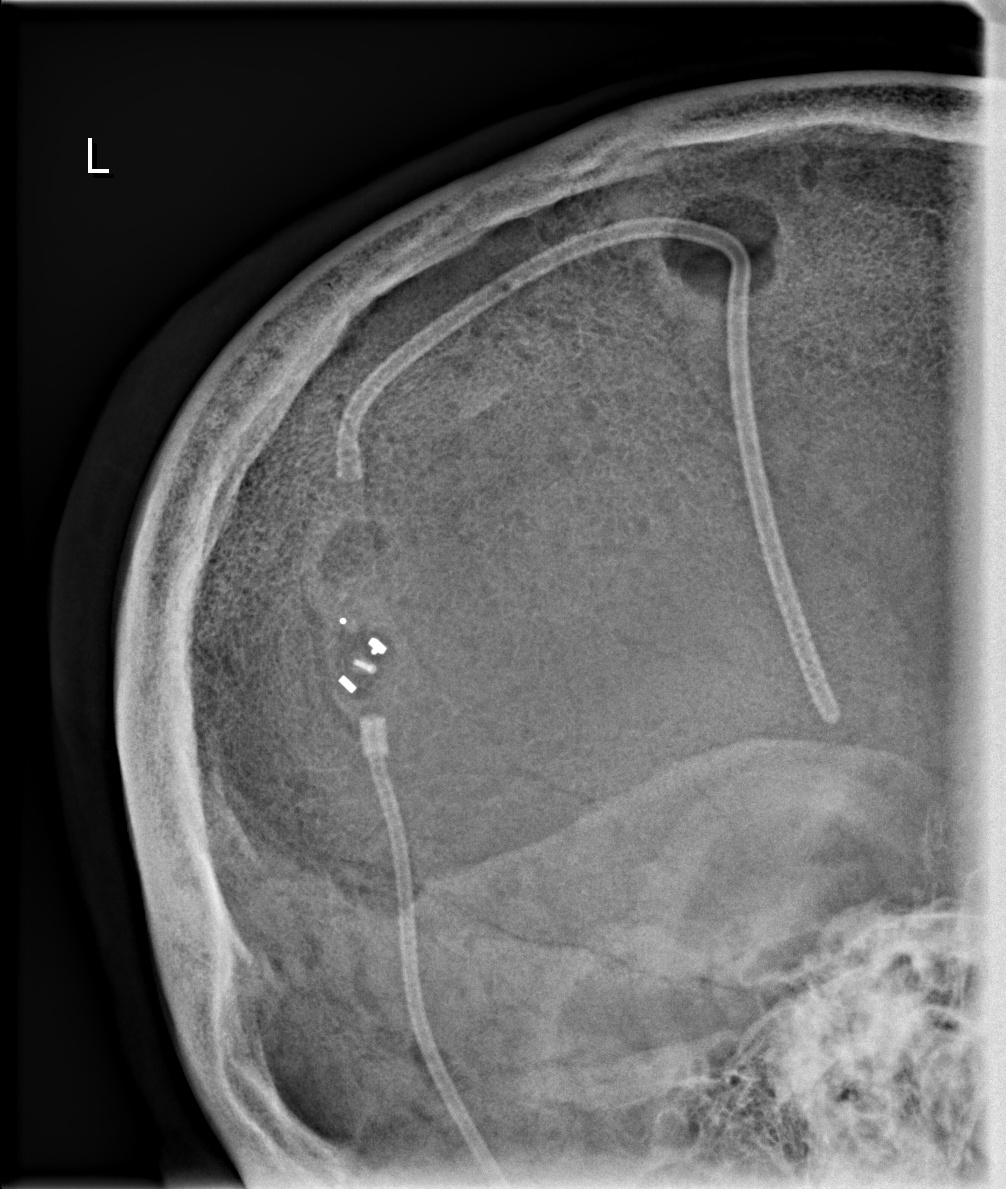Codman Certas: (310, 599, 419, 717)
